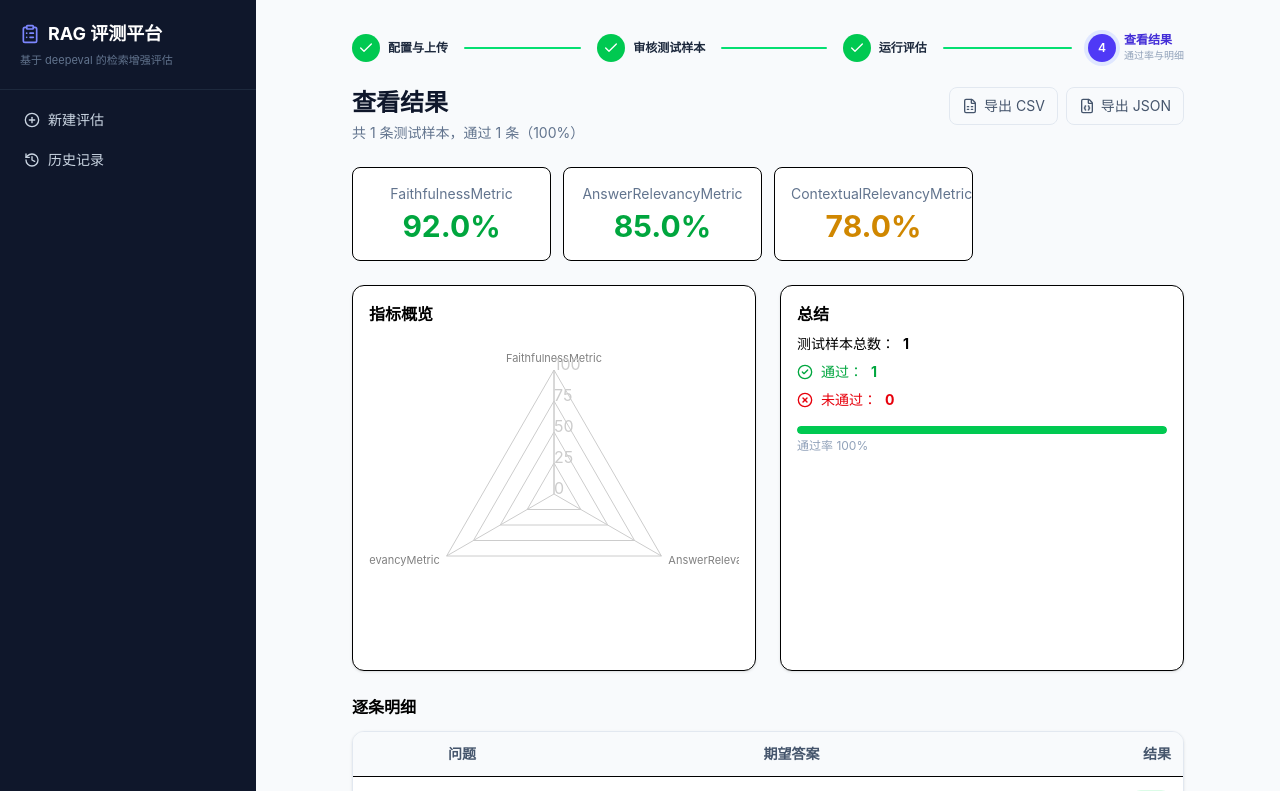
Scenario: User Flows › History page shows past tasks
What coordinates should you click on to do the following:
click the link "历史记录"
I would click on:
 (64, 159)
Its box is [24,150,104,168].
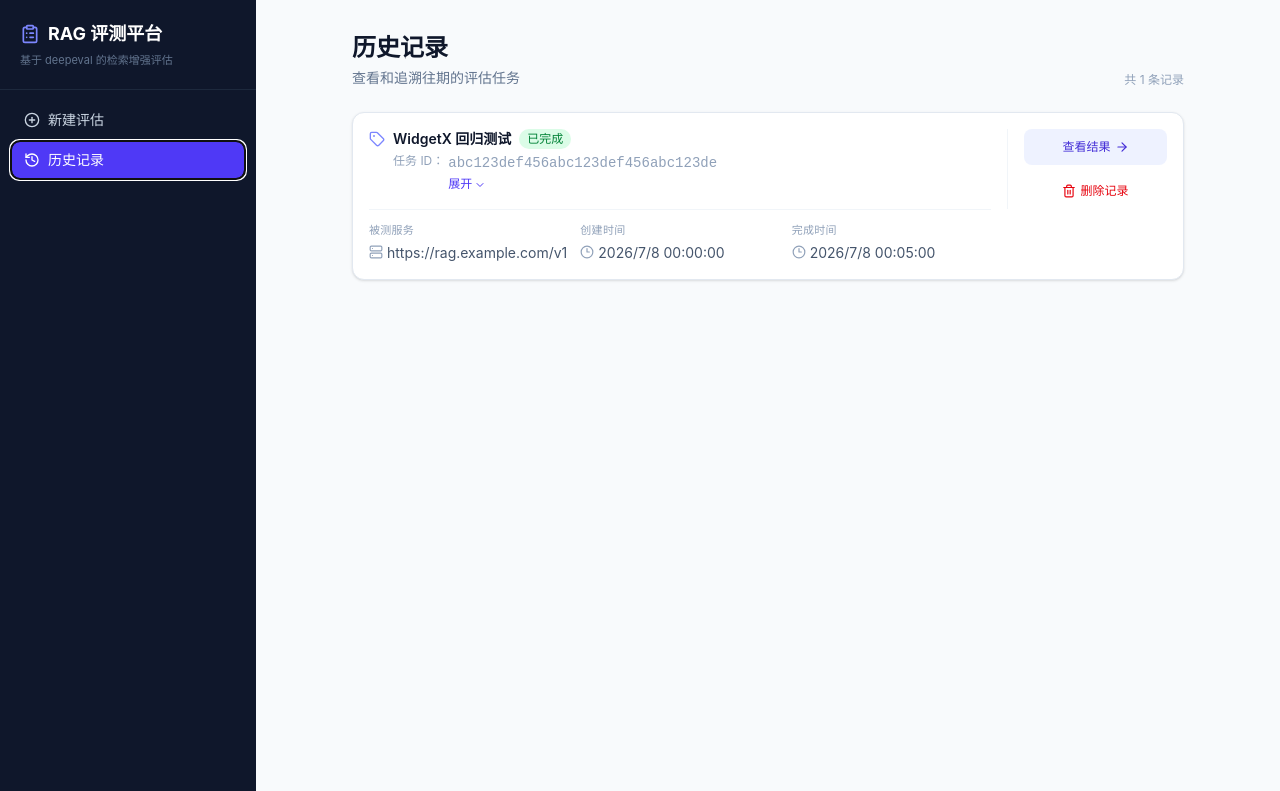
Result: the text "已完成" is shown at [519,129,571,149]
Result: the text "完成时间" is shown at [792,223,837,237]
Result: the text "WidgetX 回归测试" is shown at [393,129,511,149]
